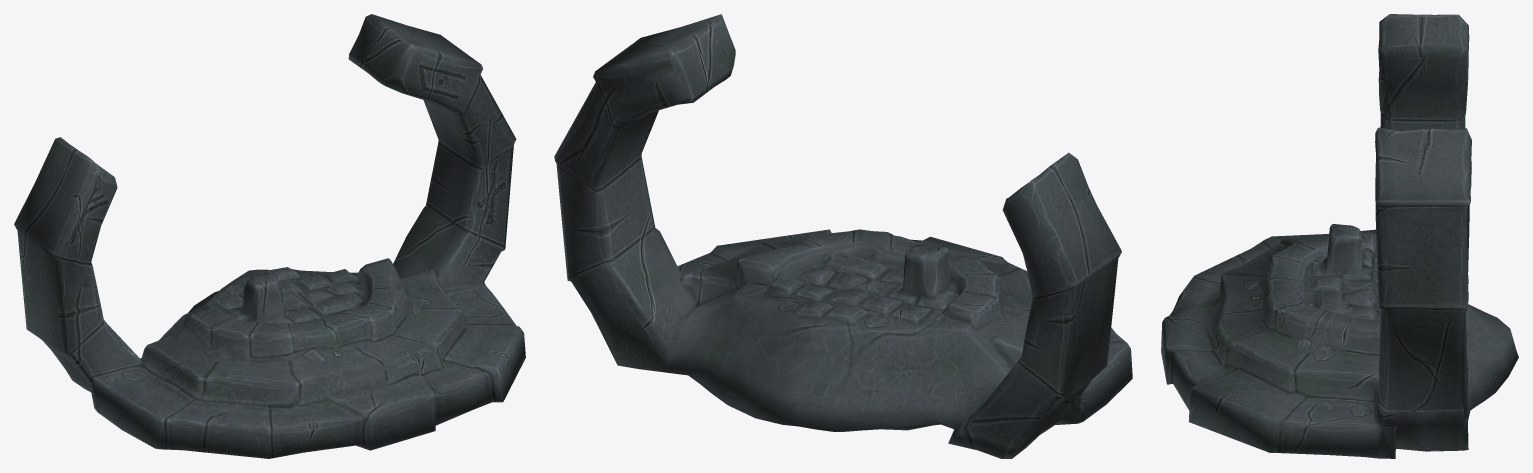
Rendered from medival_ruins.fbx.
3 renders of one model, left to right at view 1: azimuth 30°, elevation 25°; view 2: azimuth 150°, elevation 25°; view 3: azimuth 270°, elevation 25°, orthographic. The views are drawn at different scales.
Parts seen in each view (by area): view 1: Ruin_Retopolo; view 2: Ruin_Retopolo; view 3: Ruin_Retopolo.
Part boxes in pixels (bbox=[...]): Ruin_Retopolo: bbox=[14, 14, 525, 458]; Ruin_Retopolo: bbox=[554, 14, 1132, 458]; Ruin_Retopolo: bbox=[1161, 14, 1518, 458].
Bounding box in the file's own units: 407 × 248 × 265.
